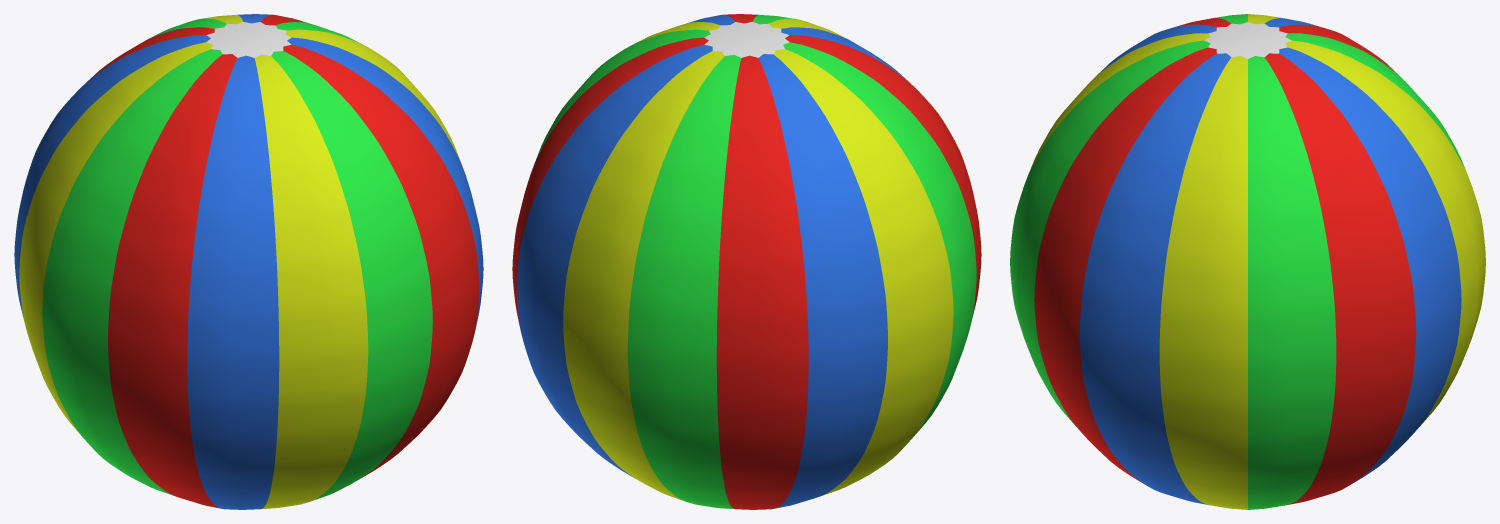
The model's file is BeachBall.fbx.
The picture shows the model from 3 angles, left to right: view 1: azimuth 30°, elevation 25°; view 2: azimuth 150°, elevation 25°; view 3: azimuth 270°, elevation 25°; orthographic projection.
Visible parts, largest first — view 1: Sphere; view 2: Sphere; view 3: Sphere.
Part boxes in pixels (x1,y1,x2,y2): Sphere: [14, 14, 483, 509]; Sphere: [512, 14, 981, 509]; Sphere: [1010, 14, 1485, 509].
Bounding box in the file's own units: 190 × 196 × 190.
